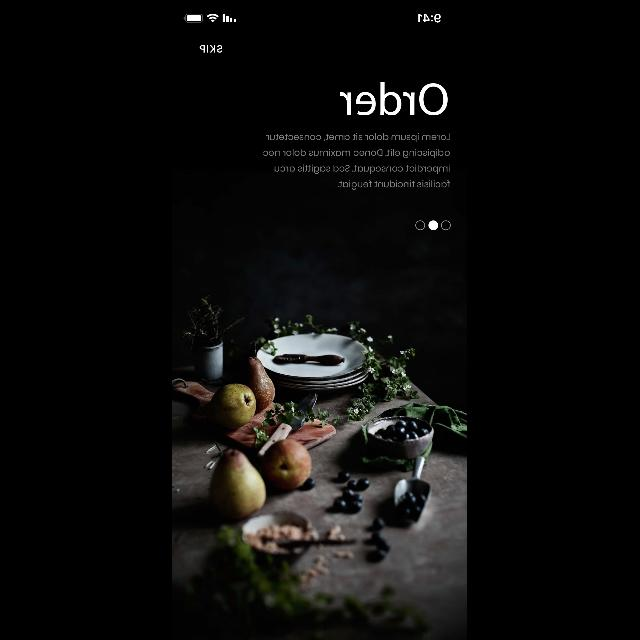backgroundimage: (172, 294, 468, 640)
pageindicator: (416, 221, 452, 231)
text: (264, 134, 451, 190), (340, 82, 448, 116), (200, 45, 222, 53)
uppertaskbar: (184, 14, 442, 22)
